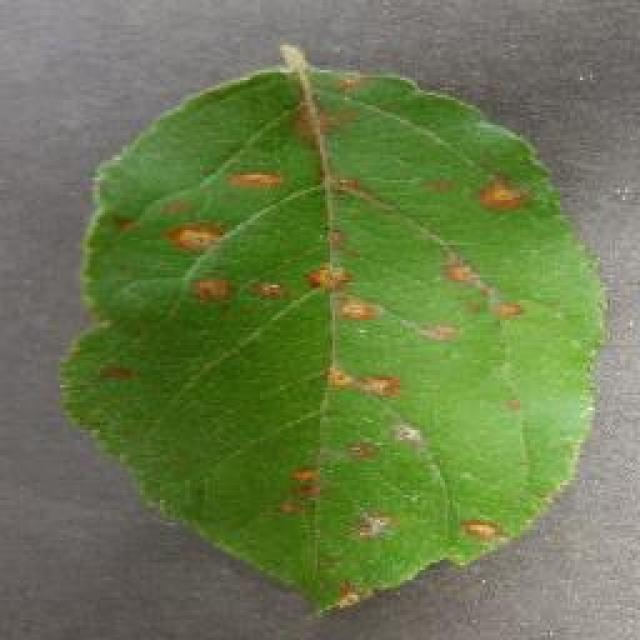apple rust disease: (58, 43, 610, 615)
